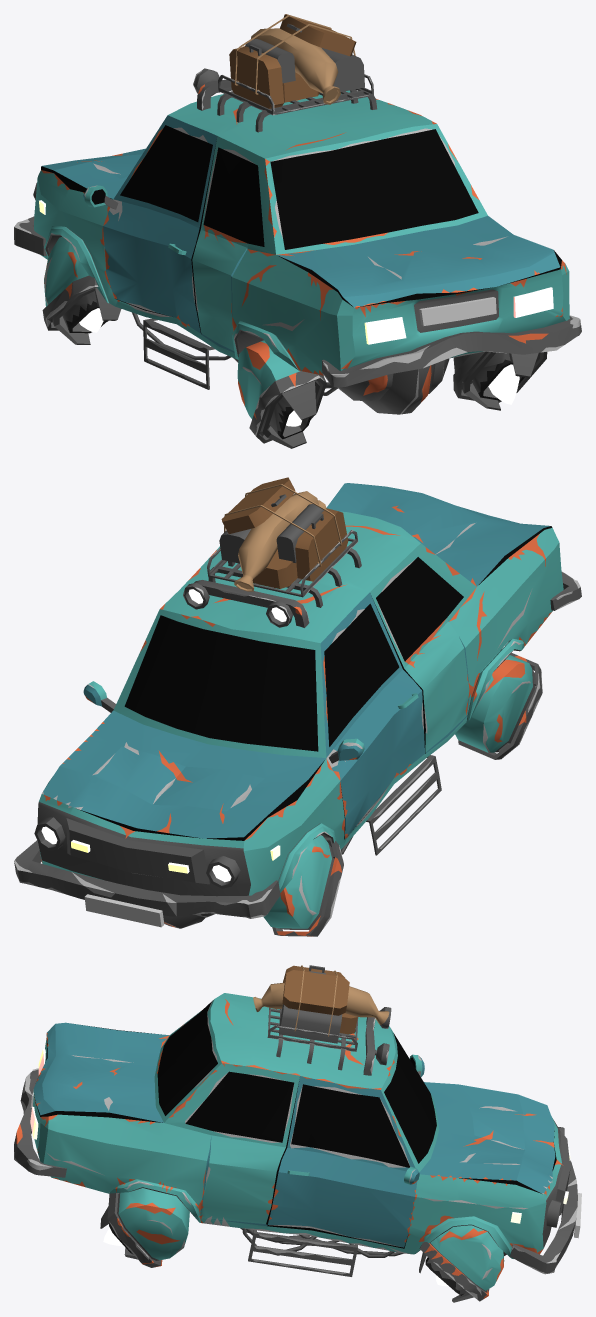
The model's file is flying-car.glb.
The picture shows the model from 3 angles, top to bottom: view 1: azimuth 30°, elevation 25°; view 2: azimuth 150°, elevation 25°; view 3: azimuth 270°, elevation 25°; orthographic projection. The views are drawn at different scales.
Parts seen in each view (by area): view 1: Car, Nozzle Rear Left, Nozzle Front Left, Nozzle Rear Left.001, Nozzle Fire Rear Left.001; view 2: Car, Nozzle Rear Left, Nozzle Front Left; view 3: Car, Nozzle Rear Left.001, Nozzle Front Left.001.
Boxes of the visible parts, x1=… form: Car: x1=14, y1=14, x2=581, y2=414; Nozzle Rear Left: x1=237, y1=336, x2=326, y2=448; Nozzle Front Left: x1=42, y1=237, x2=121, y2=344; Nozzle Rear Left.001: x1=453, y1=351, x2=547, y2=410; Nozzle Fire Rear Left.001: x1=488, y1=364, x2=519, y2=404; Car: x1=14, y1=477, x2=581, y2=928; Nozzle Rear Left: x1=455, y1=649, x2=542, y2=759; Nozzle Front Left: x1=263, y1=835, x2=343, y2=936; Car: x1=14, y1=965, x2=581, y2=1276; Nozzle Rear Left.001: x1=100, y1=1188, x2=189, y2=1267; Nozzle Front Left.001: x1=419, y1=1217, x2=504, y2=1302.
Size of the model in its own units: 1.86 by 2.28 by 3.9.
